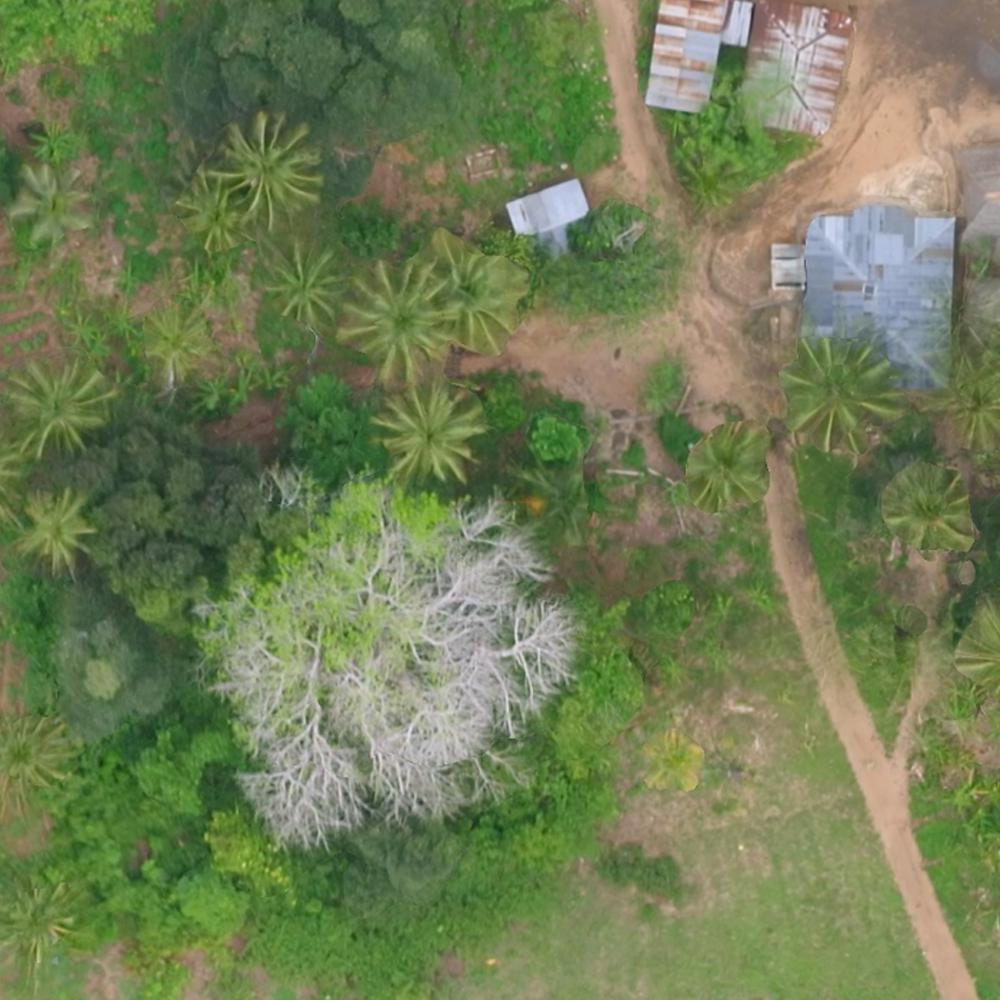Palm: (420, 235, 531, 345), (785, 338, 898, 445), (344, 265, 452, 373), (218, 113, 322, 218), (4, 354, 109, 456), (377, 383, 474, 485), (881, 466, 971, 550), (1, 717, 81, 809), (262, 241, 344, 327), (8, 163, 95, 241), (12, 491, 93, 565), (691, 428, 762, 509), (177, 173, 251, 248), (140, 301, 210, 369)
